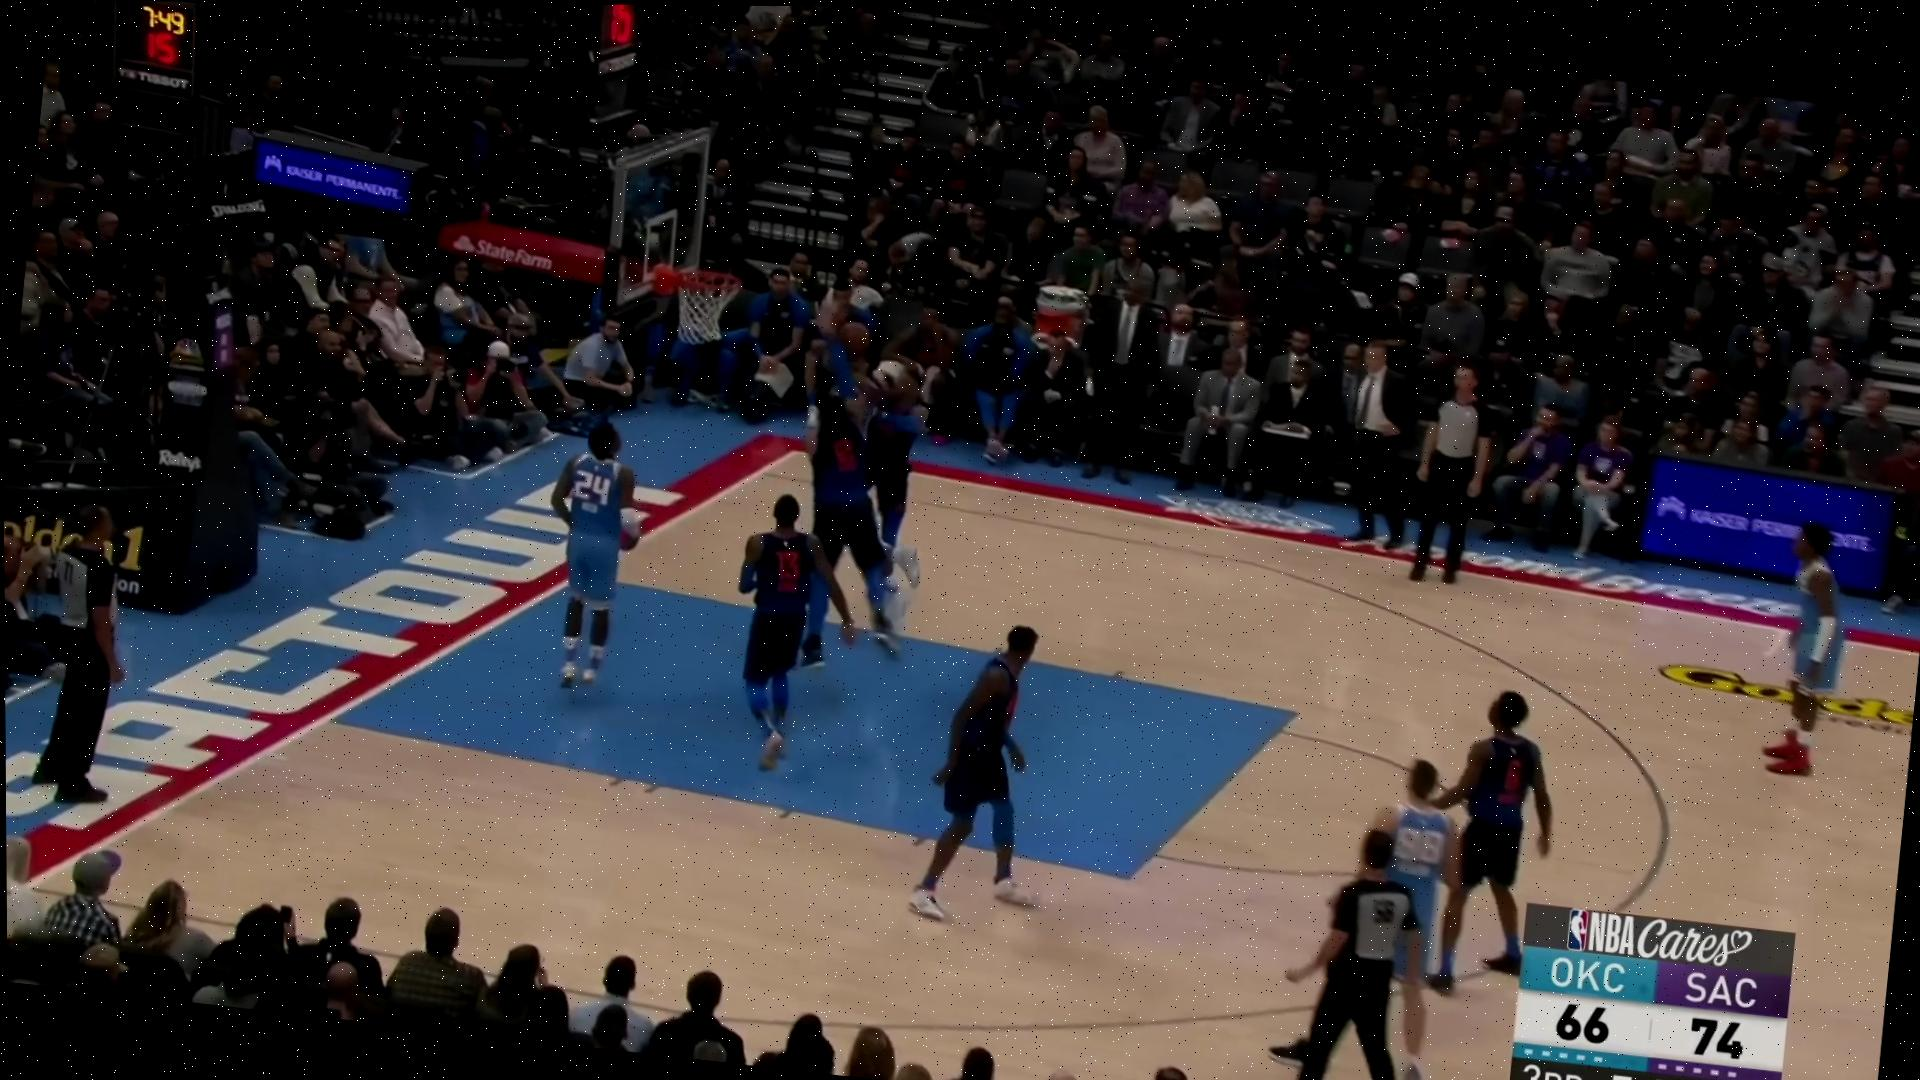foul: (749, 291, 969, 669)
